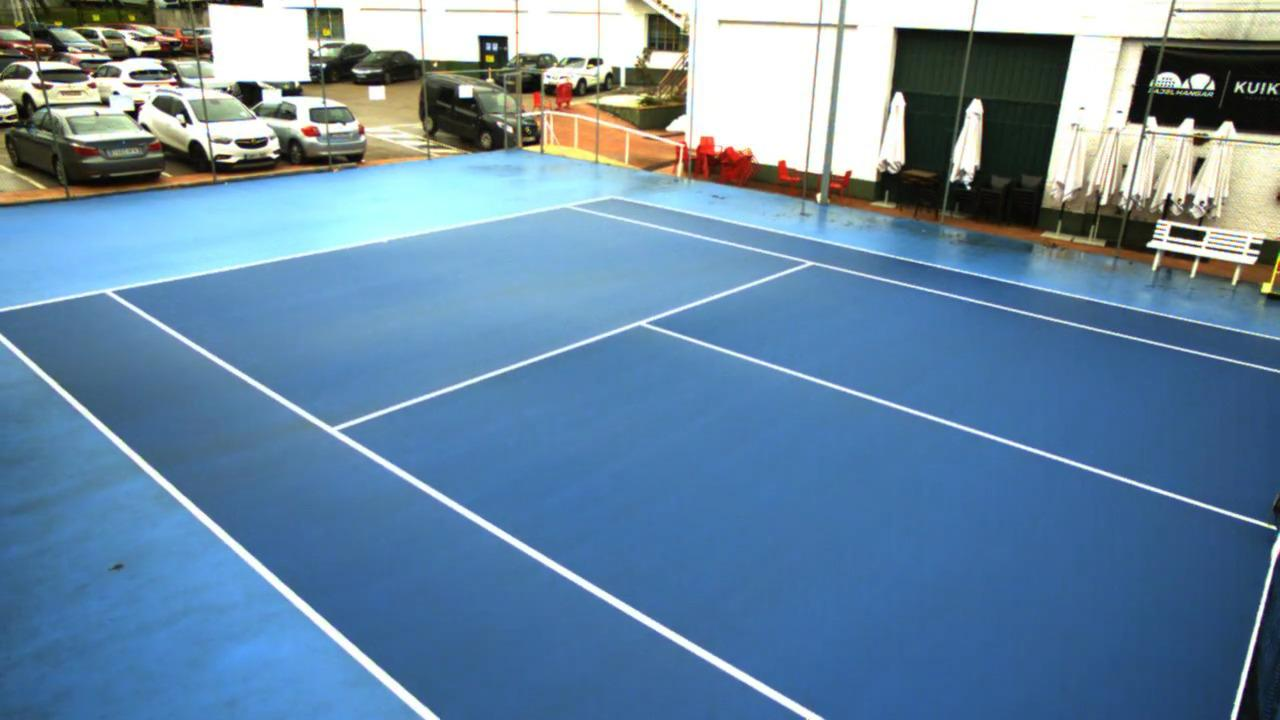cancha_tenis: (108, 203, 1280, 720)
point_f1: (95, 283, 124, 303)
point_f2: (559, 196, 584, 213)
point_fc1: (375, 234, 390, 248)
point_i1: (317, 420, 349, 444)
point_i2: (796, 252, 818, 272)
point_ic1: (631, 314, 652, 332)
